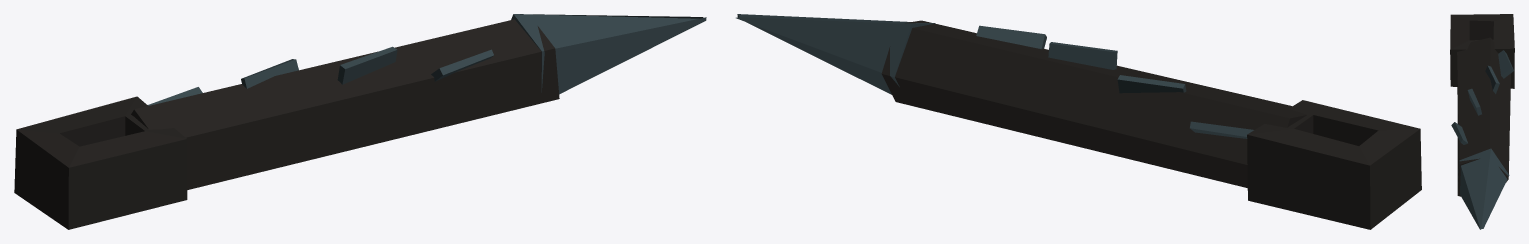
Rendered from needle_obsidian.glb.
The picture shows the model from 3 angles, left to right: view 1: azimuth 30°, elevation 25°; view 2: azimuth 150°, elevation 25°; view 3: azimuth 270°, elevation 25°; orthographic projection. The views are drawn at different scales.
Parts seen in each view (by area): view 1: NeedleObsidian; view 2: NeedleObsidian; view 3: NeedleObsidian.
Boxes of the visible parts, x1,y1,x2,y2 form: NeedleObsidian: (14, 14, 706, 229); NeedleObsidian: (736, 14, 1421, 229); NeedleObsidian: (1450, 14, 1514, 229).
Size of the model in its own units: 0.3365 by 0.0434 by 0.0469.
